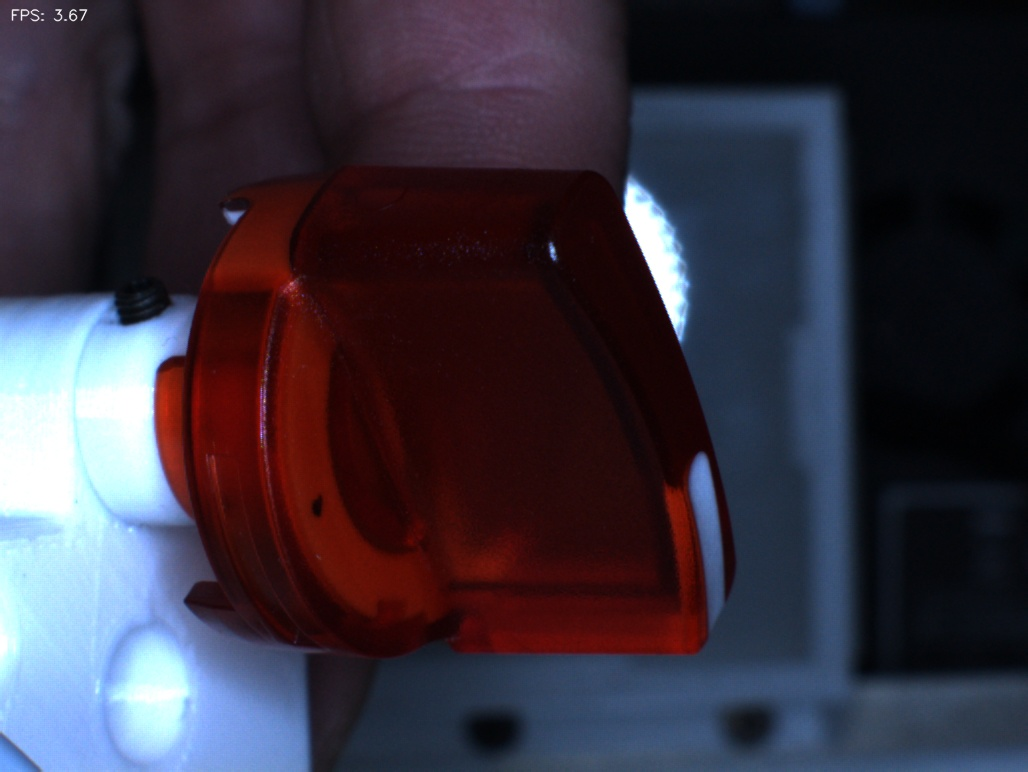PointNoir: (279, 468, 352, 548)
